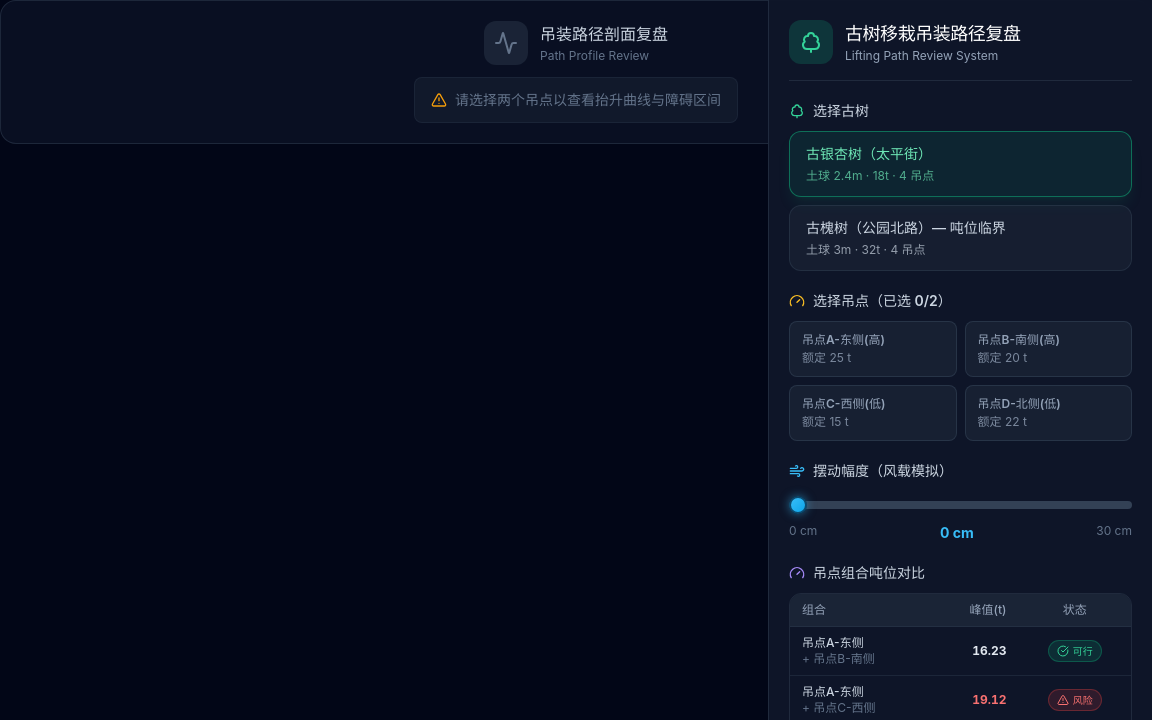
Scenario: 集成：场景1 - 古银杏树（太平街）吊点B + 吊点D → 碰撞风险 › 点击吊点B、吊点D → 当前方案评估卡片出现「相交」+「需调整吊点或清障」提示
Click the button "吊点B-南侧(高) 额定 20 t" at (1048, 349), box [964,321,1132,377]
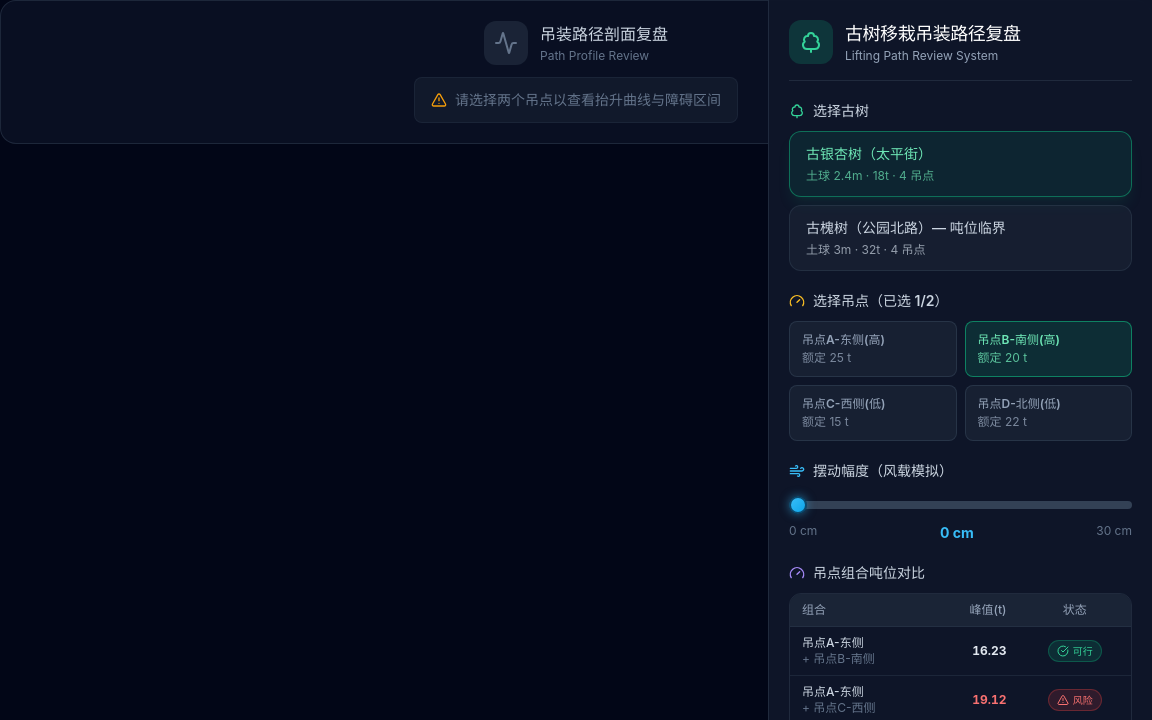
Click the button "吊点D-北侧(低) 额定 22 t" at (1048, 413), box [964,385,1132,441]
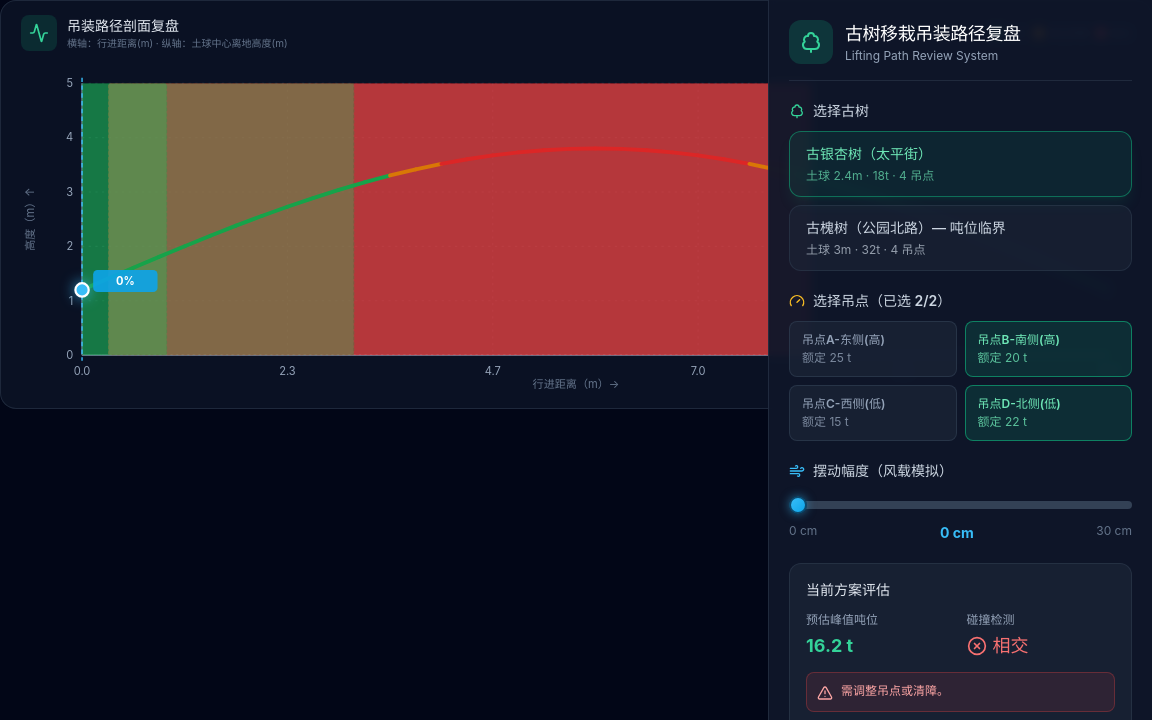
Expected: the text "当前方案评估" is shown, [806,581,890,598]
Expected: the element showing "当前方案评估 预估峰值吨位 16.2 t 碰撞检测 相交 需调整吊点或清障。 播放吊装动画" is shown, [789,563,1132,719]
Expected: the text "相交" is shown, [992,632,1028,660]
